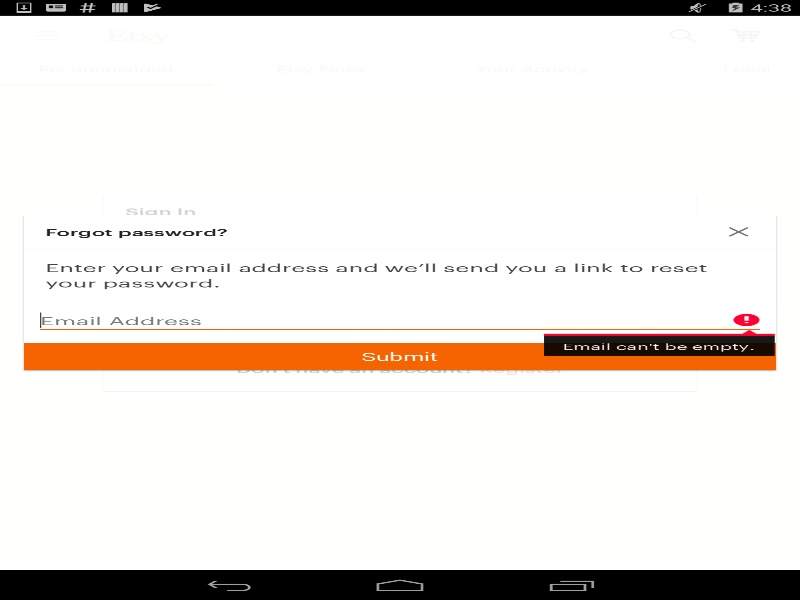Input: (34, 307, 765, 332)
